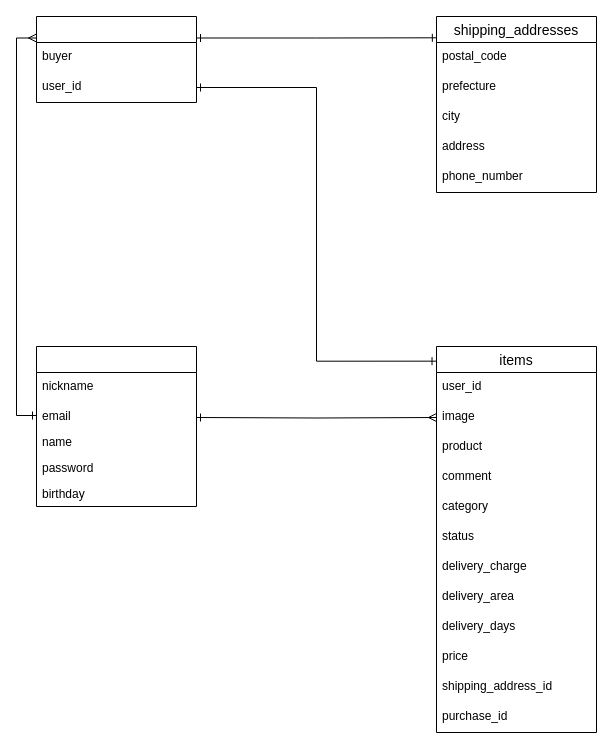
Some shapes in this 613 by 749 pixel diagram are drawn without their labels. Here are the shapes that lost their labels. From the top down, the box of each, then its label:
(36, 16, 196, 102): purchases
(36, 346, 196, 506): users
